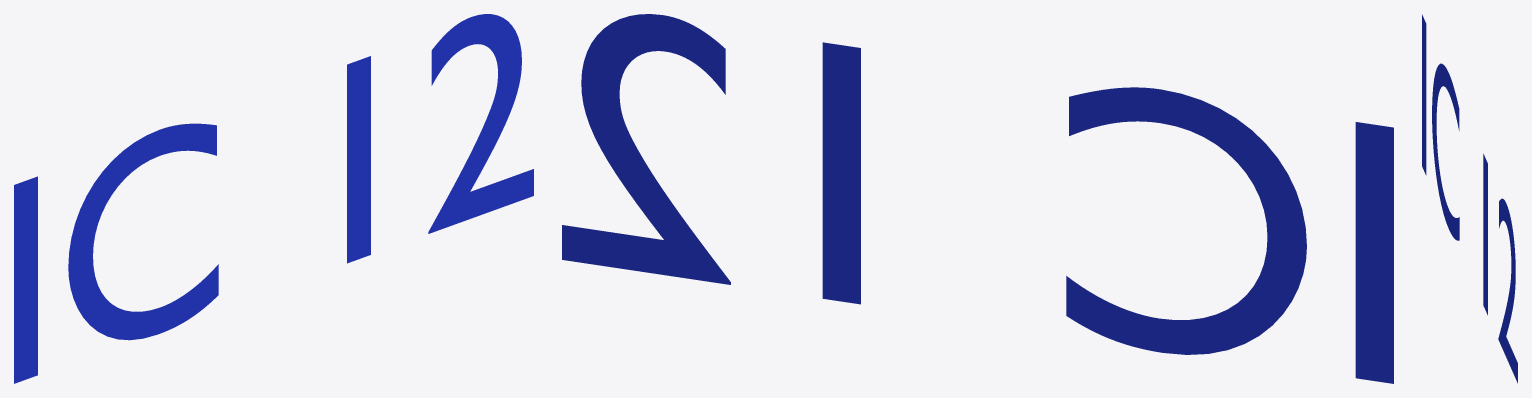
File: InstitutoCiencias12.gltf
3 renders of one model, left to right at view 1: azimuth 30°, elevation 25°; view 2: azimuth 150°, elevation 25°; view 3: azimuth 270°, elevation 25°, orthographic. The views are drawn at different scales.
Visible parts, largest first — view 1: Text.150; view 2: Text.150; view 3: Text.150.
Boxes of the visible parts, x1=… form: Text.150: x1=14, y1=14, x2=533, y2=383; Text.150: x1=562, y1=14, x2=1393, y2=383; Text.150: x1=1422, y1=14, x2=1517, y2=383.
Bounding box in the file's own units: 0.6607 × 0.2213 × 0.1231.
